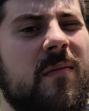without_mask: (2, 1, 89, 111)
